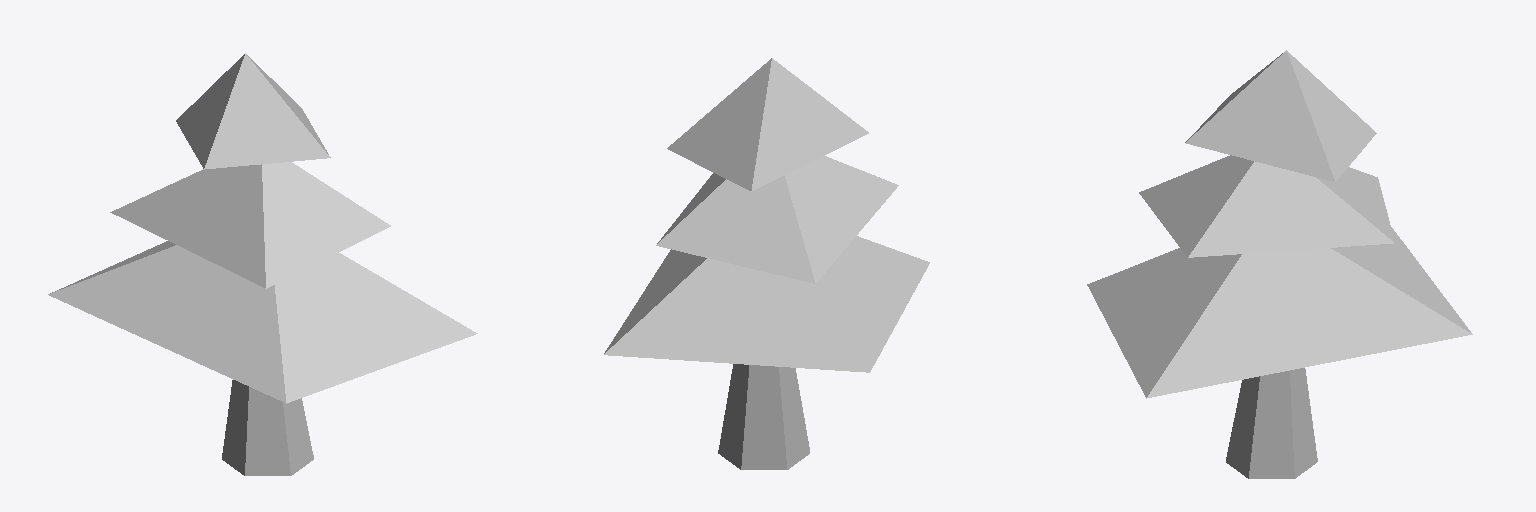
The model's file is tree08.obj.
The picture shows the model from 3 angles: view 1: azimuth 30°, elevation 25°; view 2: azimuth 150°, elevation 25°; view 3: azimuth 270°, elevation 25°; orthographic projection.
Visible parts, largest first — view 1: Converted_object_1; view 2: Converted_object_1; view 3: Converted_object_1.
Part boxes in pixels (x1,y1,x2,y2): Converted_object_1: (48, 53, 477, 475); Converted_object_1: (604, 58, 929, 469); Converted_object_1: (1087, 50, 1472, 478).
Size of the model in its own units: 4.63 by 5.76 by 4.98.